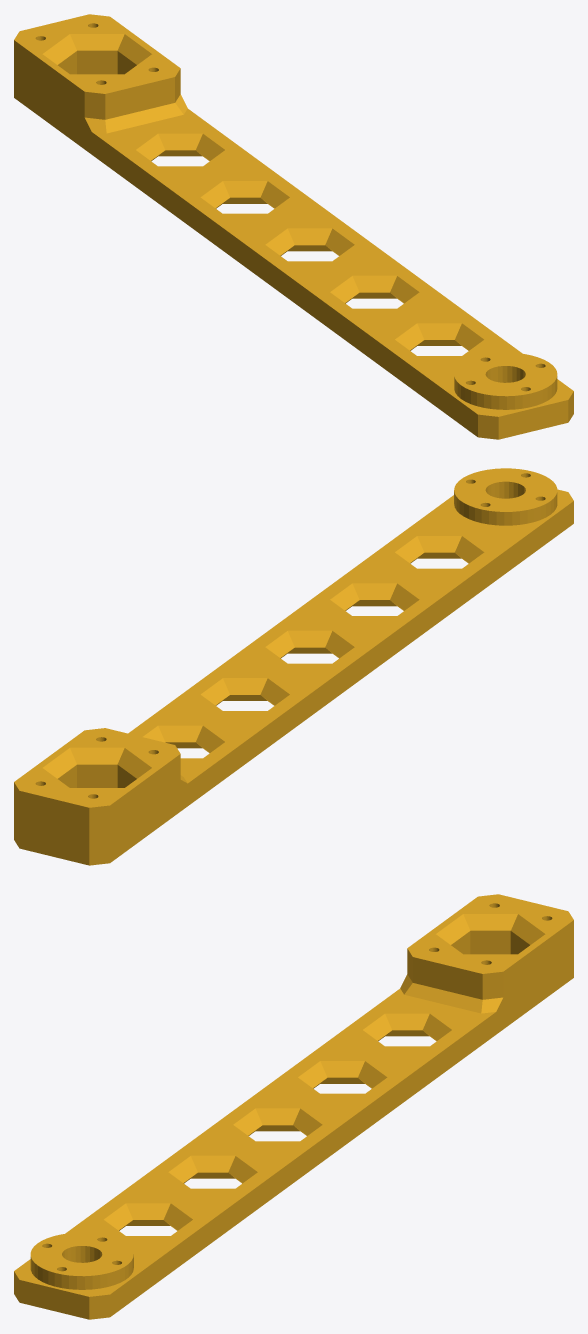
3 renders of one model, top to bottom at view 1: azimuth 30°, elevation 25°; view 2: azimuth 150°, elevation 25°; view 3: azimuth 330°, elevation 25°, orthographic.
Parts seen in each view (by area): view 1: node; view 2: node; view 3: node.
Part boxes in pixels (x1,y1,x2,y2): node: [14, 14, 573, 439]; node: [14, 468, 573, 865]; node: [14, 894, 573, 1319].
Size of the model in its own units: 22 by 12.65 by 190.
